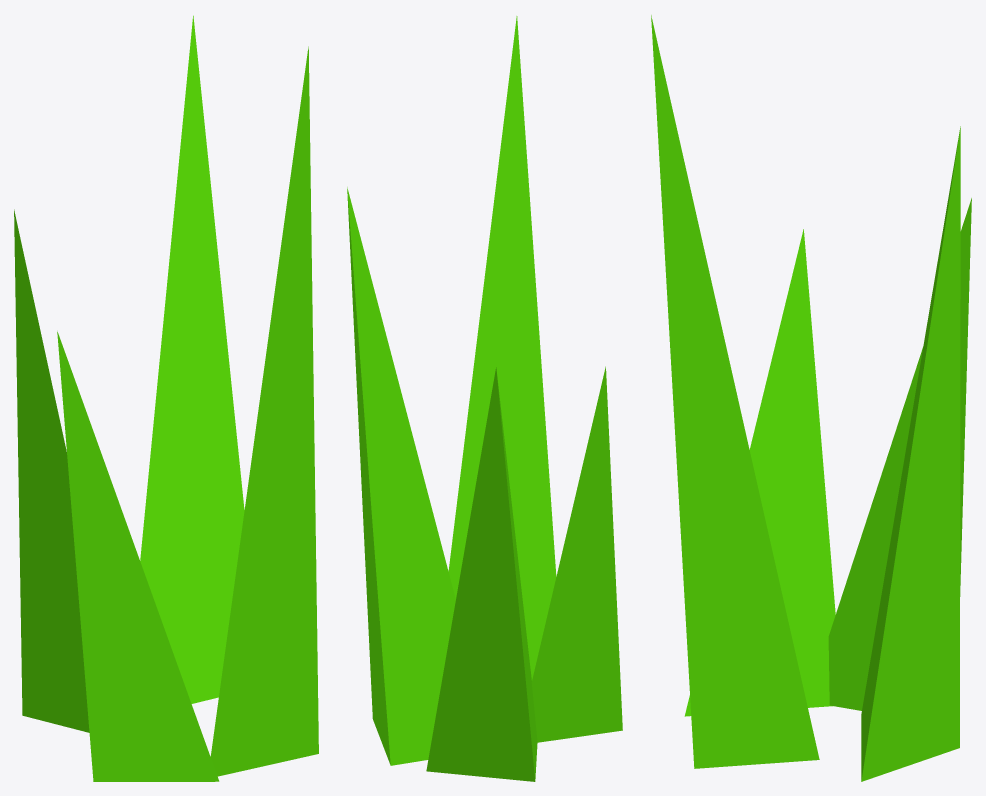
The model's file is grass.fbx.
3 renders of one model, left to right at view 1: azimuth 30°, elevation 25°; view 2: azimuth 150°, elevation 25°; view 3: azimuth 270°, elevation 25°, orthographic. The views are drawn at different scales.
Visible parts, largest first — view 1: Cone.003, Cone, Cone.001, Cone.002; view 2: Cone, Cone.003, Cone.002, Cone.001; view 3: Cone.003, Cone, Cone.001, Cone.002.
Part boxes in pixels (x1,y1,x2,y2): Cone.003: [210, 46, 318, 776]; Cone: [140, 15, 244, 703]; Cone.001: [57, 331, 219, 781]; Cone.002: [14, 209, 89, 732]; Cone: [347, 187, 455, 765]; Cone.003: [448, 16, 556, 680]; Cone.002: [426, 367, 537, 781]; Cone.001: [531, 366, 622, 742]; Cone.003: [651, 15, 819, 768]; Cone: [861, 126, 960, 781]; Cone.001: [684, 229, 835, 716]; Cone.002: [828, 198, 971, 710].
Bounding box in the file's own units: 68.19 × 204 × 80.22.
